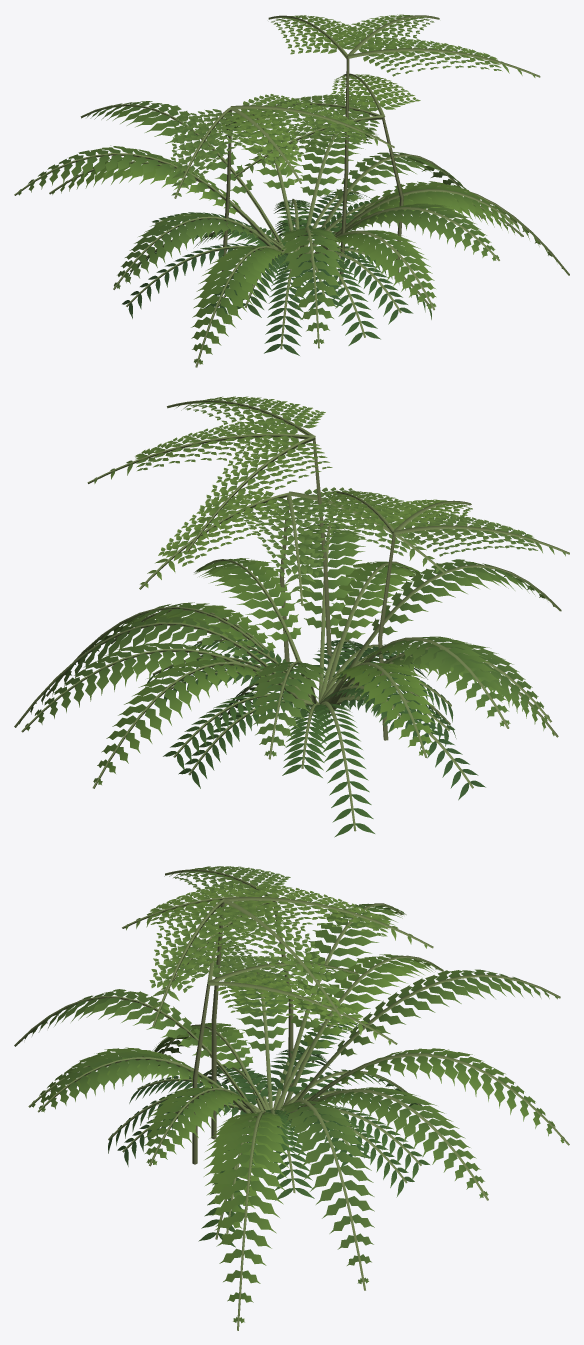
File: env_ferns.glb
The picture shows the model from 3 angles, top to bottom: view 1: azimuth 30°, elevation 25°; view 2: azimuth 150°, elevation 25°; view 3: azimuth 270°, elevation 25°; orthographic projection. The views are drawn at different scales.
Parts seen in each view (by area): view 1: FERN_Lady, FERN_Bracken, FERN_Christmas; view 2: FERN_Lady, FERN_Bracken, FERN_Christmas; view 3: FERN_Lady, FERN_Bracken, FERN_Christmas.
Boxes of the visible parts, bbox=[...] form: FERN_Lady: bbox=[14, 101, 569, 367]; FERN_Bracken: bbox=[169, 14, 540, 284]; FERN_Christmas: bbox=[122, 190, 431, 355]; FERN_Lady: bbox=[14, 521, 561, 788]; FERN_Bracken: bbox=[87, 396, 569, 740]; FERN_Christmas: bbox=[145, 638, 485, 837]; FERN_Lady: bbox=[14, 903, 569, 1330]; FERN_Bracken: bbox=[122, 866, 433, 1164]; FERN_Christmas: bbox=[108, 1021, 429, 1247].
Size of the model in its own units: 1.84 by 1.03 by 1.66.
